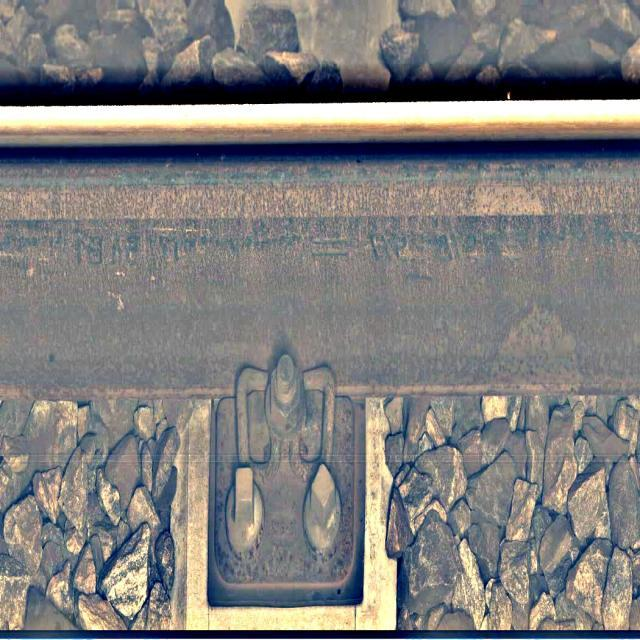Good Fasteners: (210, 354, 363, 606)
